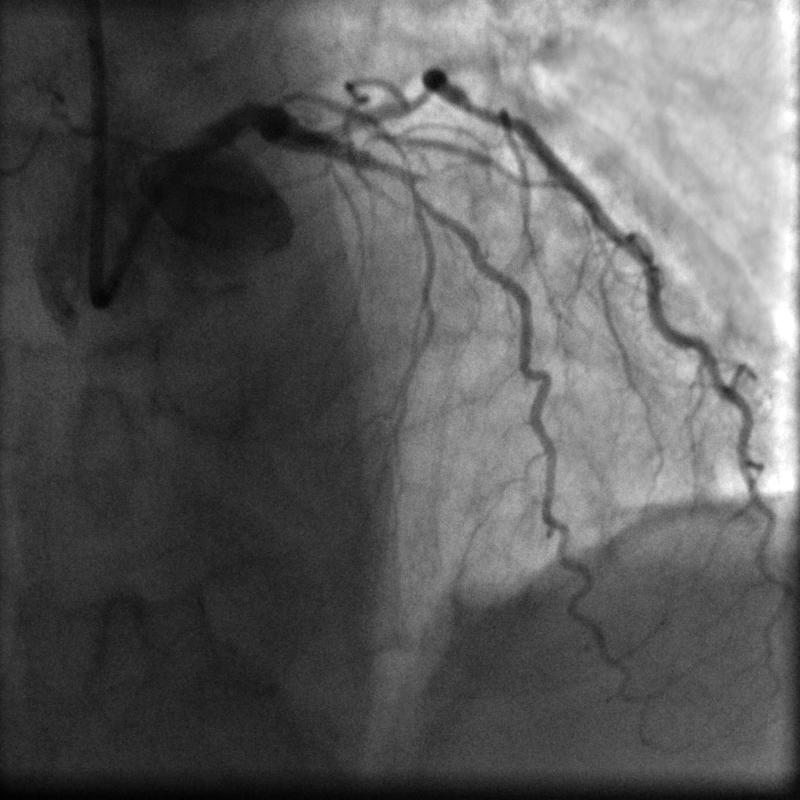Stenosis: (365, 144, 426, 196)
